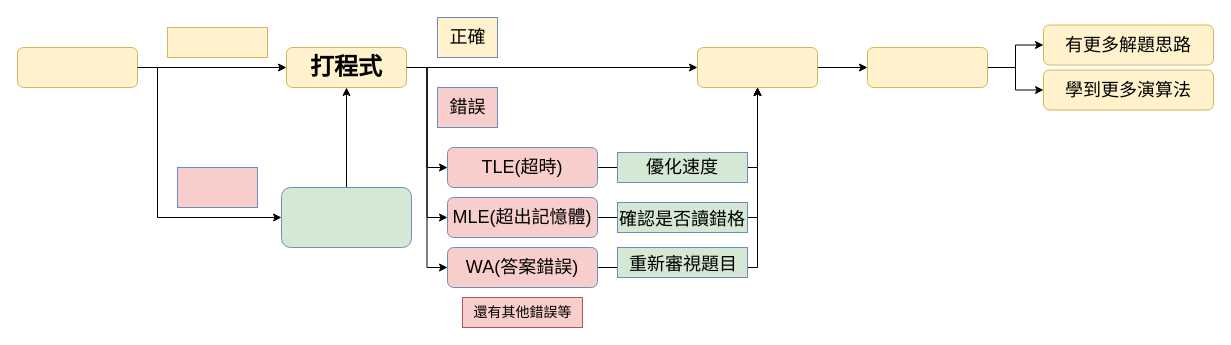
Some shapes in this 1231 by 345 pixel diagram are drawn without their labels. The shapes that lost their labels are listed below. From the top down, each one's centre as x and y in pixels, then its label:
At pixel 217 42: "有解題思路".
At pixel 77 67: "寫題目".
At pixel 757 67: "AC(正解)".
At pixel 927 67: "看別人怎麼解".
At pixel 217 187: "沒想法".
At pixel 346 217: "看網路上的提示 (通常是XX演算法)".
